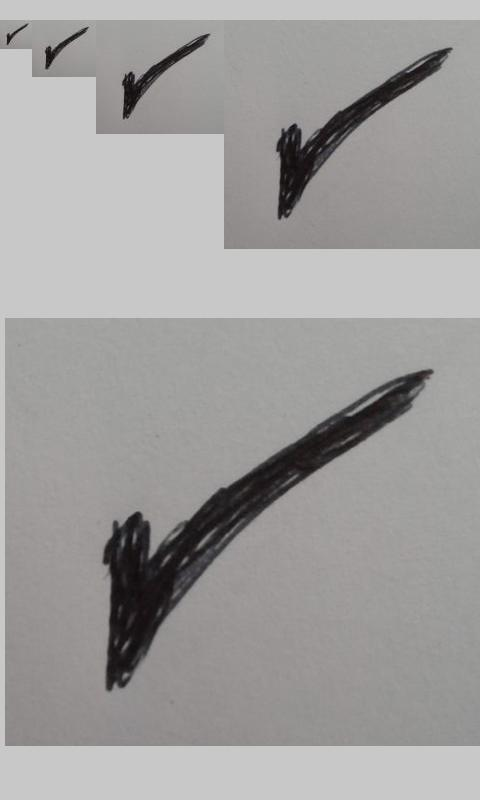check_box: (103, 374, 424, 687), (277, 49, 447, 218), (122, 34, 209, 120), (45, 27, 88, 69), (6, 24, 28, 45)
